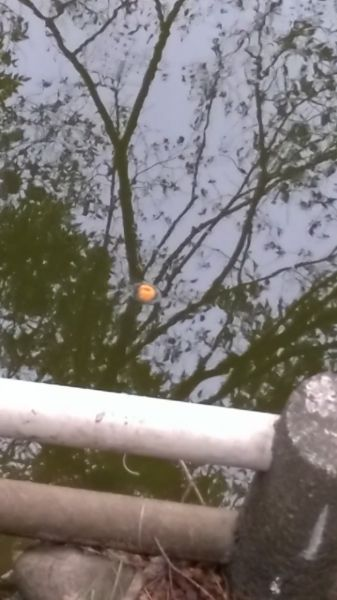eggs: (131, 278, 160, 305)
